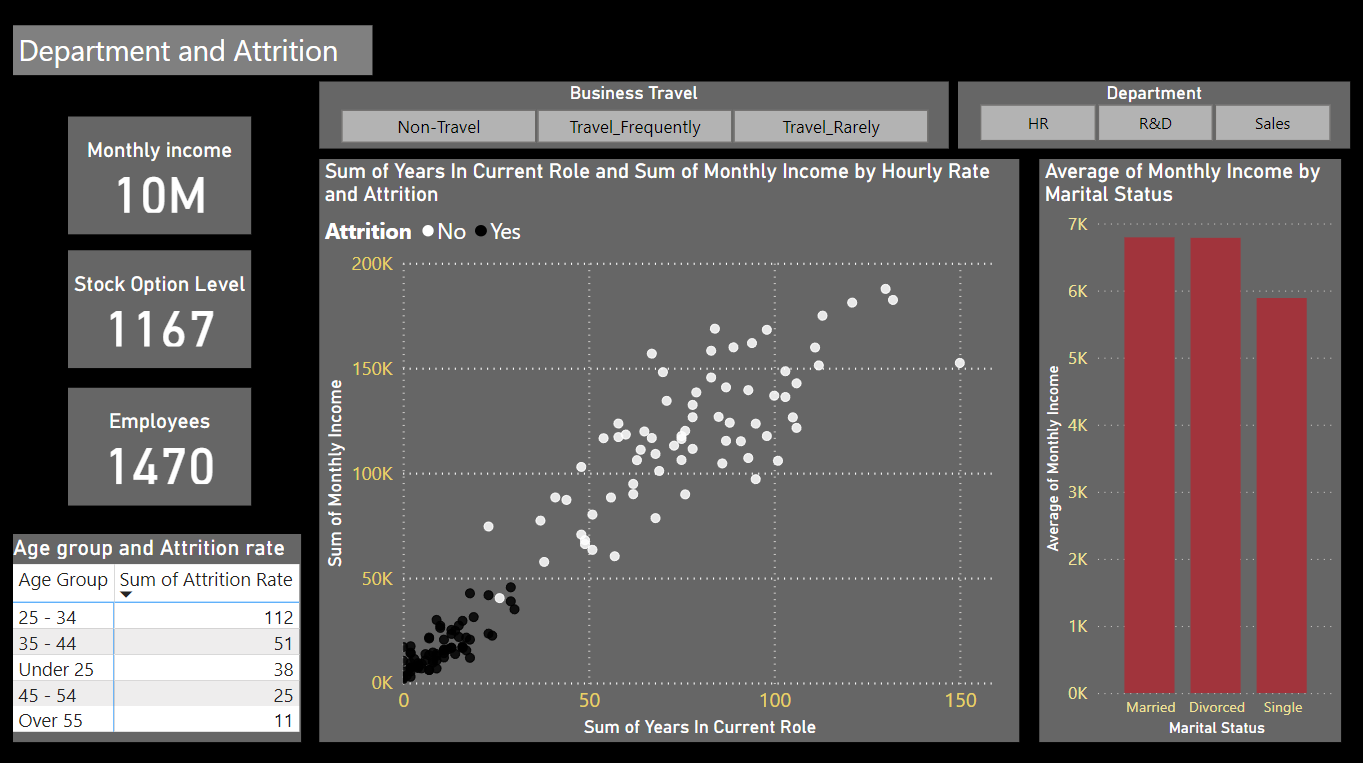

This screenshot's page, from the dashboard's own definition file:
{"tool":"powerbi","page":{"name":"Deparment","canvas":[1280,720],"ordinal":1},"visuals":[{"type":"slicer","title":"Department","fields":{"Values":["Data.Department"]},"box":[893.3,76.7,365.1,62.1],"z":0},{"type":"card","title":"Monthly income","fields":{"Values":["Sum(Data.Monthly Income)"]},"box":[64.9,109,170.4,109.5],"z":1000},{"type":"textbox","box":[13.4,24.3,334.7,46.2],"z":2000},{"type":"card","title":"Stock Option Level","fields":{"Values":["Sum(Data.Stock Option Level)"]},"box":[64.9,234.3,170.4,109.5],"z":3000},{"type":"columnChart","fields":{"Category":["Data.Marital Status"],"Y":["Avg(Data.Monthly Income)"]},"box":[968.7,148.5,281.1,542.8],"z":4000},{"type":"pivotTable","title":"Age group and Attrition rate","fields":{"Rows":["Data.CF_age band"],"Values":["Sum(Data.CF_attrition rate)"]},"box":[13.4,497.7,267.7,193.5],"z":5000},{"type":"scatterChart","fields":{"Series":["Data.Attrition"],"Category":["Data.Hourly Rate"],"X":["Sum(Data.Years In Current Role)"],"Y":["Sum(Data.Monthly Income)"]},"box":[299.4,148.5,651.1,542.8],"z":6000},{"type":"card","title":"Employees","fields":{"Values":["Sum(Data.Employee Count)"]},"box":[64.9,362.1,170.4,109.5],"z":7000},{"type":"slicer","title":"Business Travel","fields":{"Values":["Data.Business Travel"]},"box":[299.4,76.7,585.4,62.1],"z":8000}]}

Visuals, with their boxes in screenshot pixels (x1, y1, x2, y2), scaled from the page's 1280x720 canvas onto the 1363x763 screenshot:
"Department" slicer: {"x1": 951, "y1": 81, "x2": 1340, "y2": 147}
"Monthly income" card: {"x1": 69, "y1": 116, "x2": 251, "y2": 232}
textbox: {"x1": 14, "y1": 26, "x2": 371, "y2": 75}
"Stock Option Level" card: {"x1": 69, "y1": 248, "x2": 251, "y2": 364}
columnChart - Data.Marital Status x Avg(Data.Monthly Income): {"x1": 1032, "y1": 157, "x2": 1331, "y2": 733}
"Age group and Attrition rate" pivotTable: {"x1": 14, "y1": 527, "x2": 299, "y2": 732}
scatterChart - Data.Attrition x Data.Hourly Rate: {"x1": 319, "y1": 157, "x2": 1012, "y2": 733}
"Employees" card: {"x1": 69, "y1": 384, "x2": 251, "y2": 500}
"Business Travel" slicer: {"x1": 319, "y1": 81, "x2": 942, "y2": 147}
